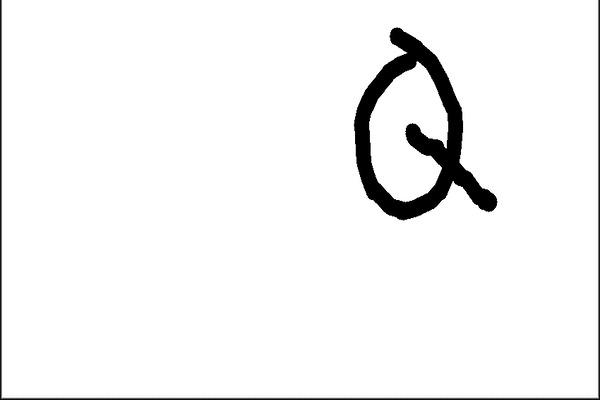Q: (339, 19, 512, 235)
